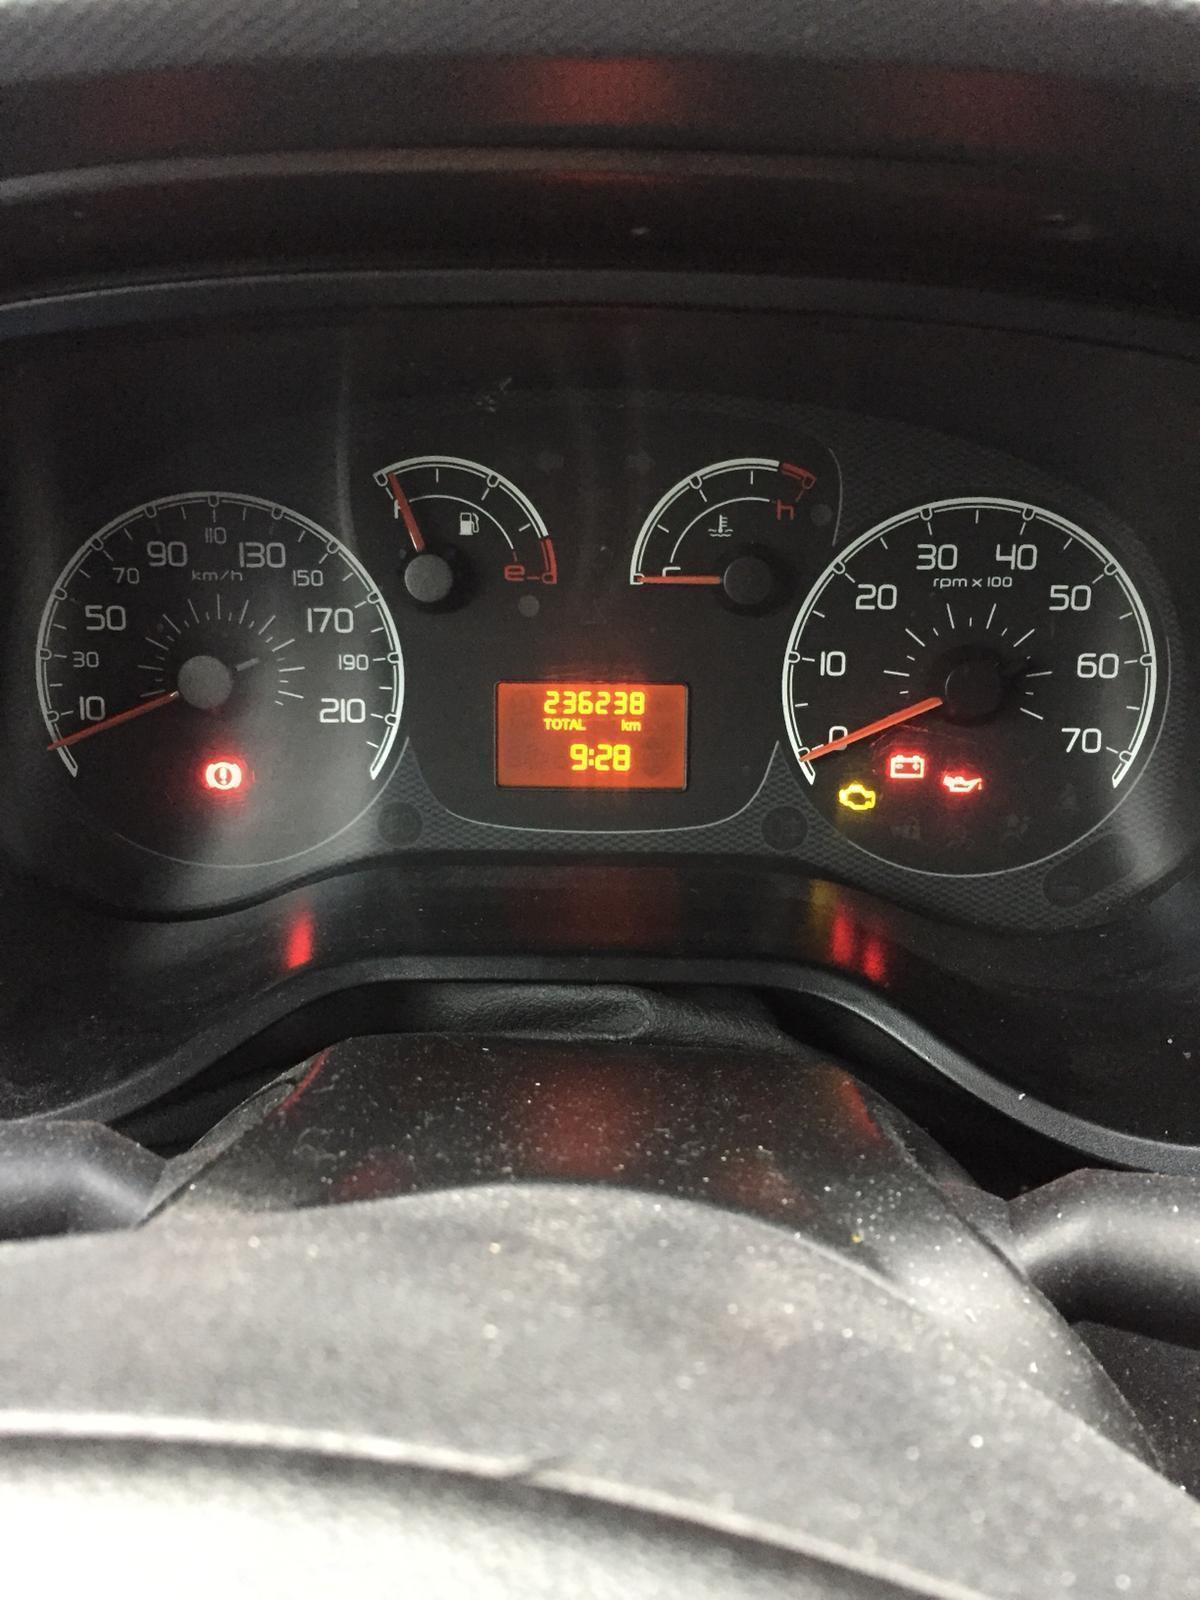2: (595, 742, 613, 774), (542, 688, 558, 716), (595, 689, 610, 713)
3: (561, 688, 577, 713), (613, 689, 626, 714)
6: (579, 689, 592, 716)
8: (613, 743, 632, 771), (630, 688, 645, 714)
9: (568, 742, 587, 770)
X: (587, 746, 595, 769), (577, 718, 587, 732), (628, 721, 642, 731), (543, 717, 552, 731), (561, 717, 570, 731), (568, 718, 579, 729), (552, 717, 561, 729), (621, 718, 628, 731)
odometer: (492, 679, 689, 792)
